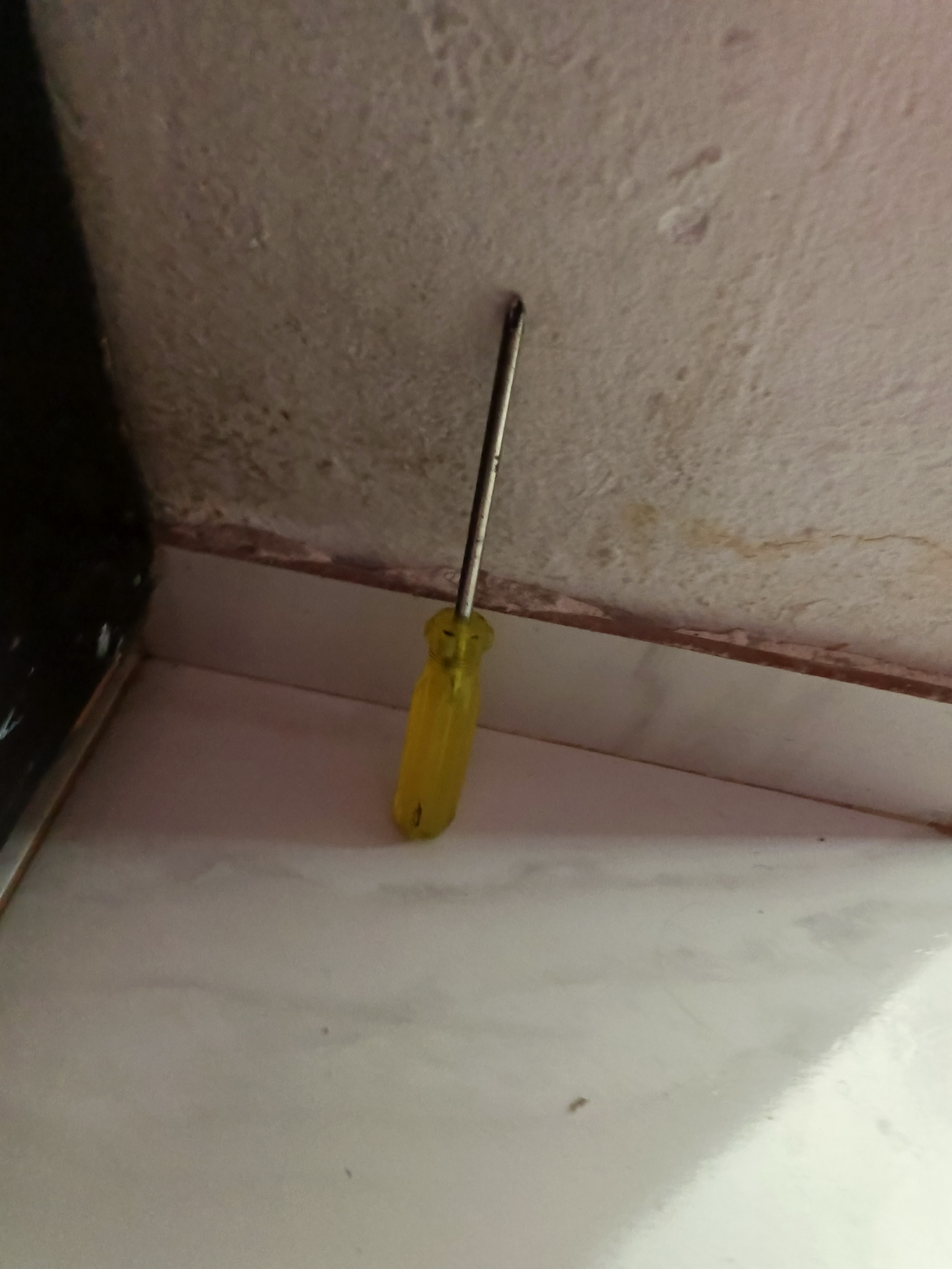Destornillador: (393, 297, 524, 838)
